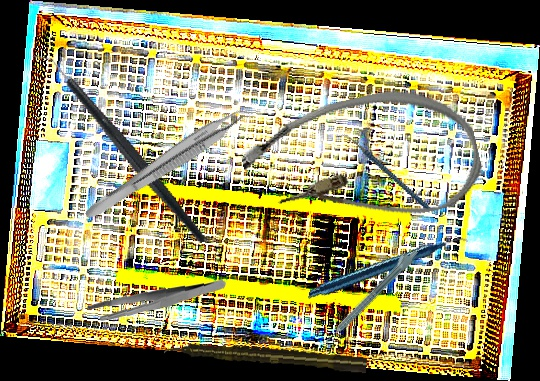Cannula: (234, 74, 489, 250)
Chopper: (29, 20, 210, 277), (335, 111, 433, 233)
Dressing Forceps: (85, 272, 227, 328)
Handpiece: (307, 200, 469, 338), (318, 244, 421, 346), (163, 338, 368, 375)
Tissue Forceps: (82, 97, 257, 231)
